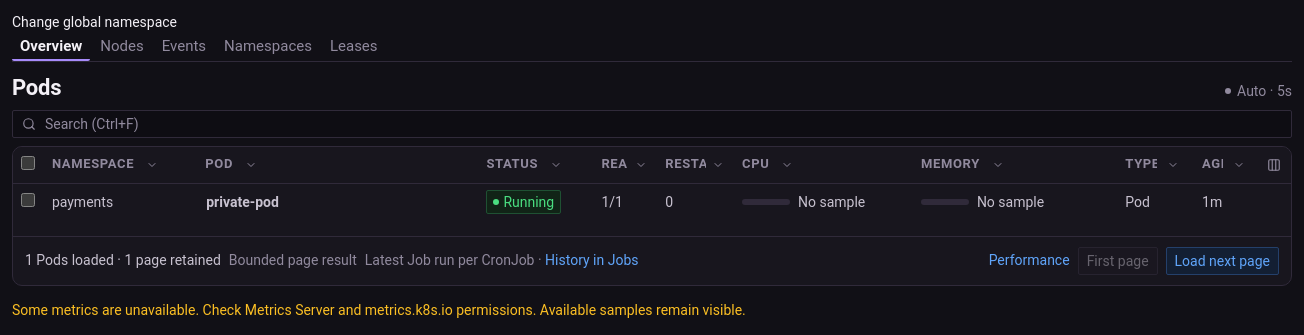
Test case: read-only resource pages › hides loaded Pods when a later page returns FORBIDDEN
Expected: the button with aria-label "Open Pod private-pod in payments" is shown, [205,188,288,216]
Click the button "Load next page" at (1222, 260), box [1166,246,1279,274]
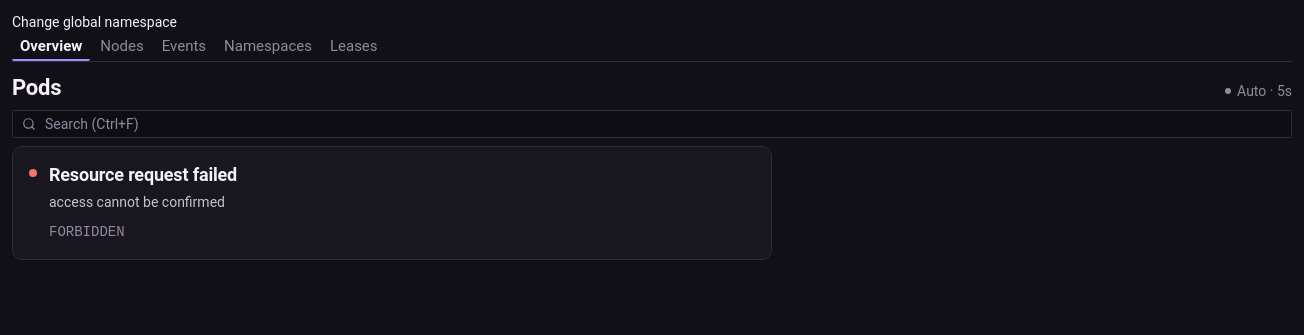
Expected: the heading "Resource request failed" is shown, [49,162,237,187]
Expected: the text "Open Pod private-pod in payments" is gone
